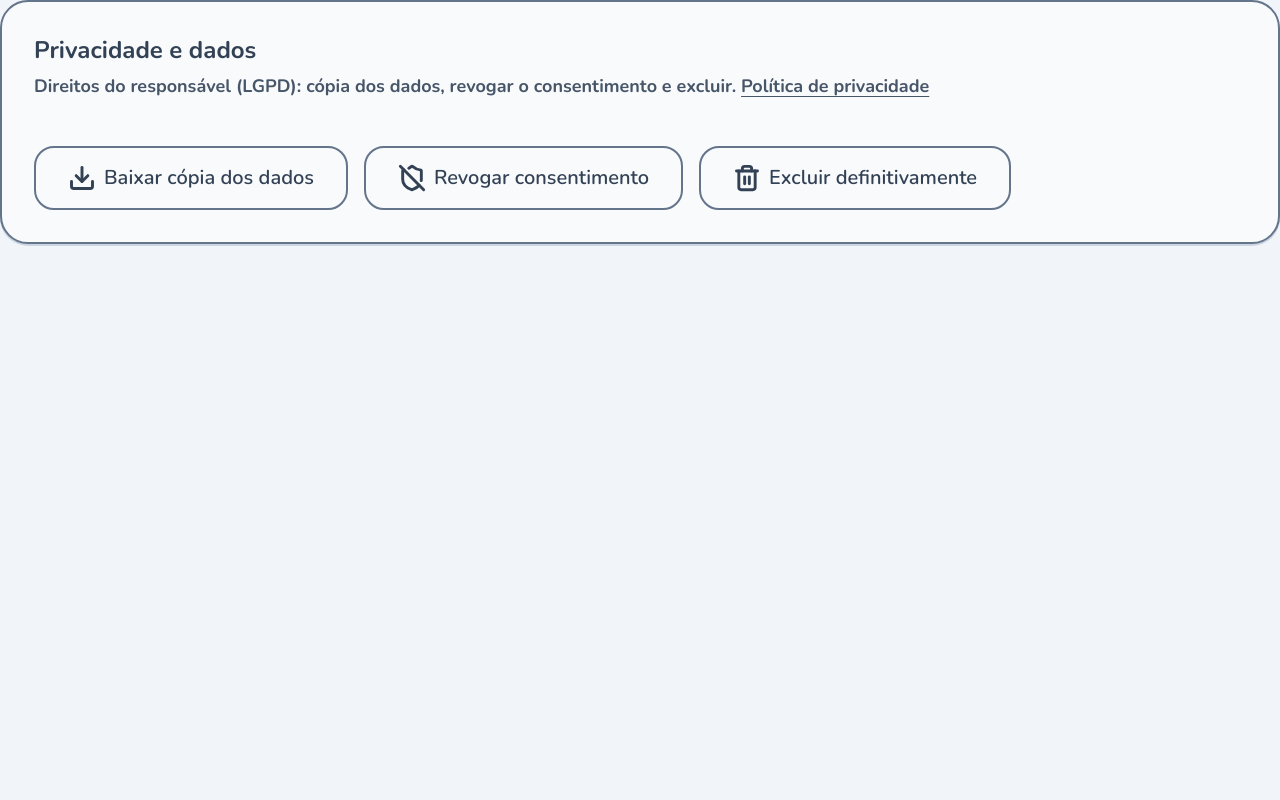
Test: excluir definitivamente › falha mostra mensagem gentil e não navega
The width and height of the screenshot is (1280, 800).
Click the button "Excluir definitivamente" at (855, 178), box [699,146,1011,210]
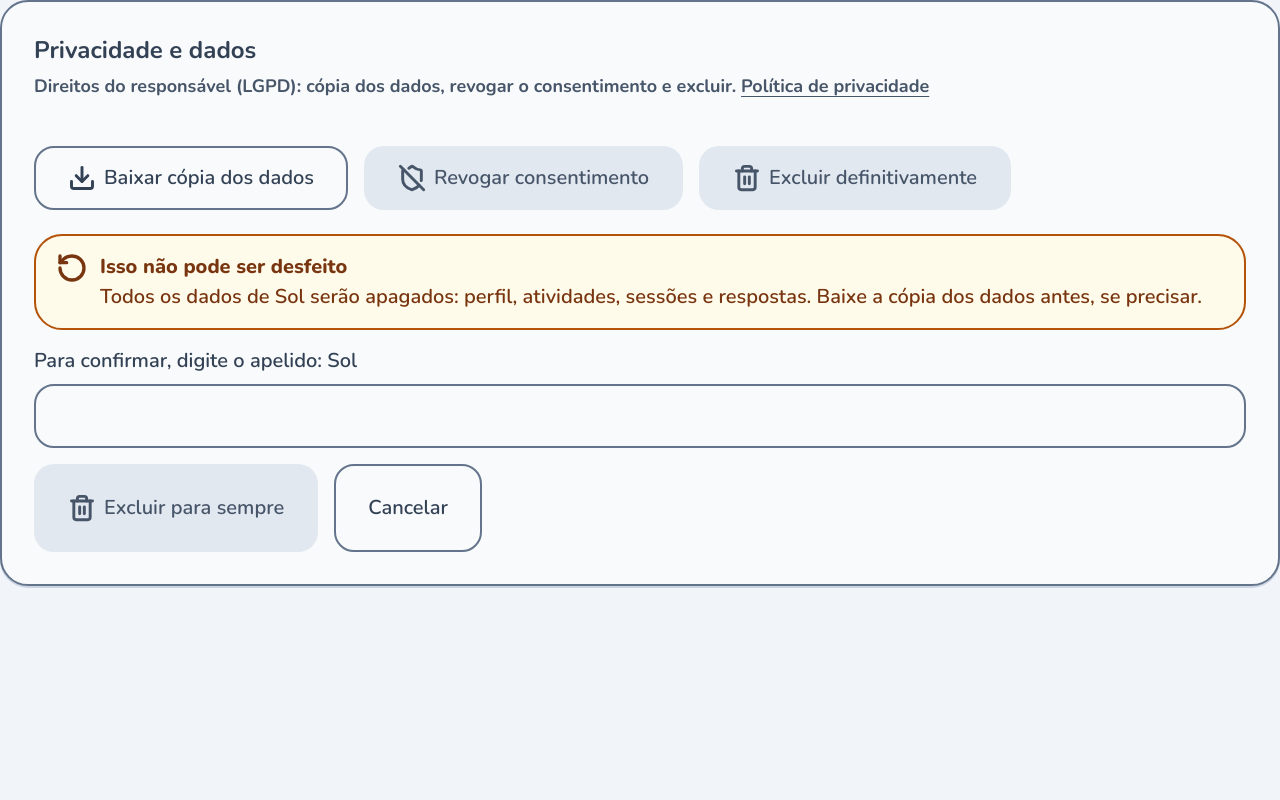
Type "Sol" into the field labelled "Para confirmar, digite o apelido: Sol" at (640, 416), box [34,384,1246,448]
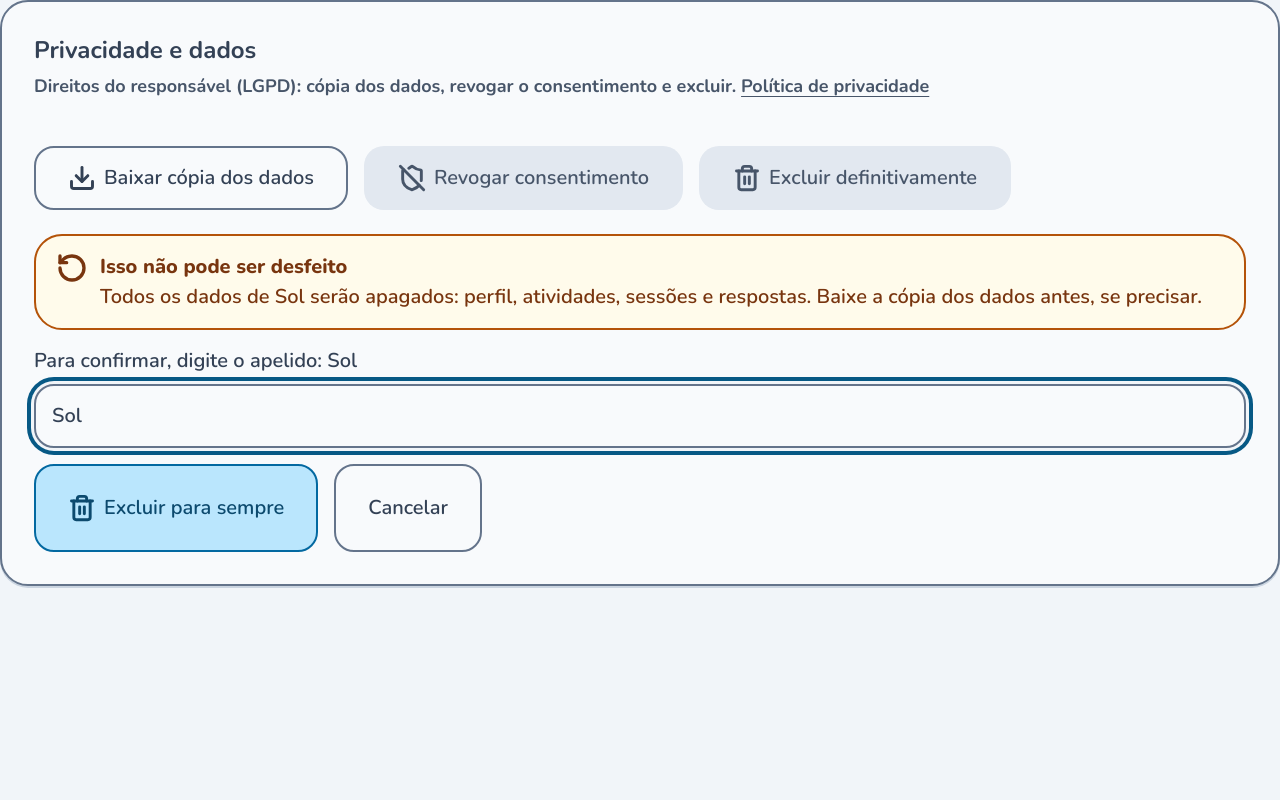
Click the button "Excluir para sempre" at (176, 508), box [34,464,318,552]
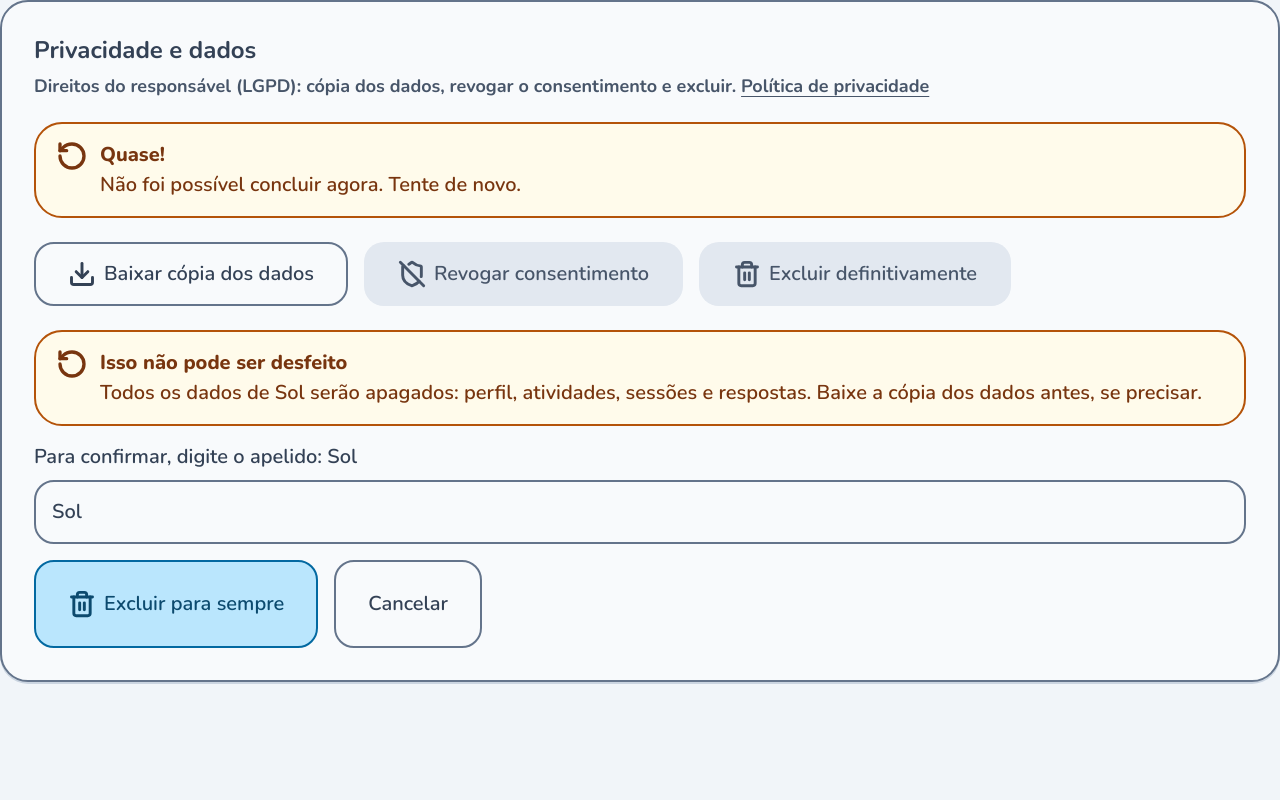
Check: the text "Quase! Não foi possível concluir agora. Tente de novo." is shown, box [100,140,521,200]
